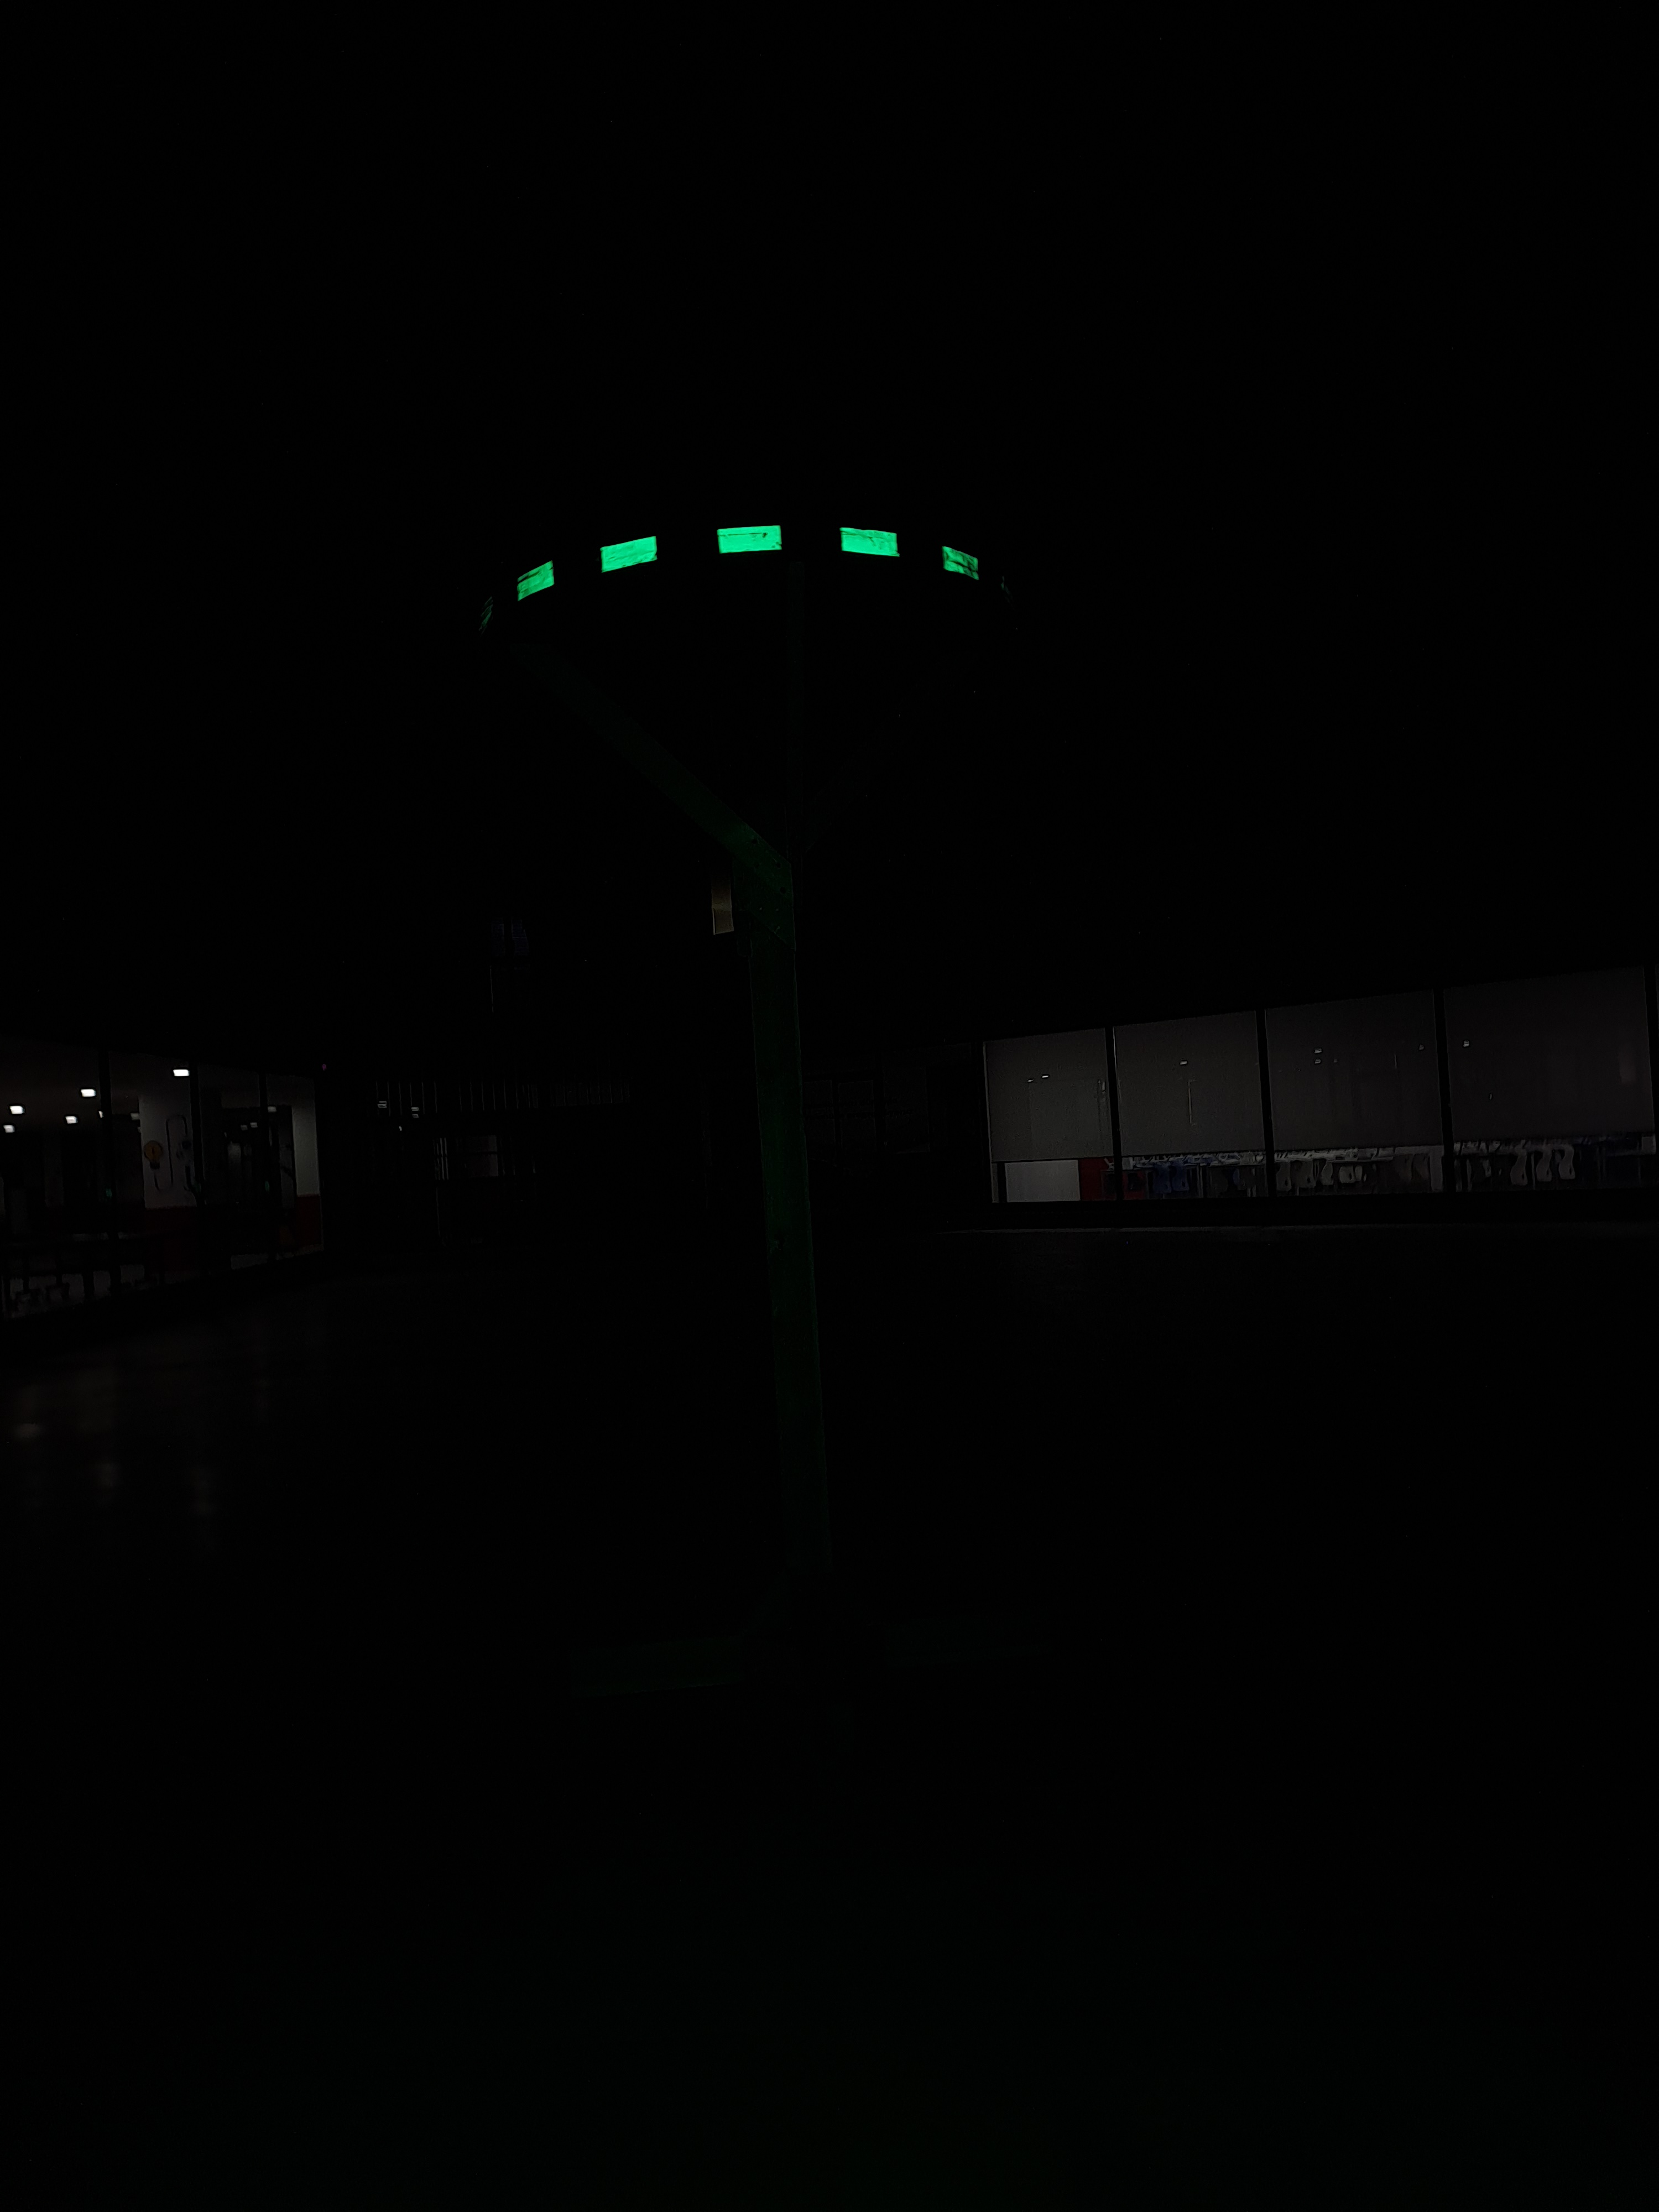hoop: (504, 517, 985, 608)
